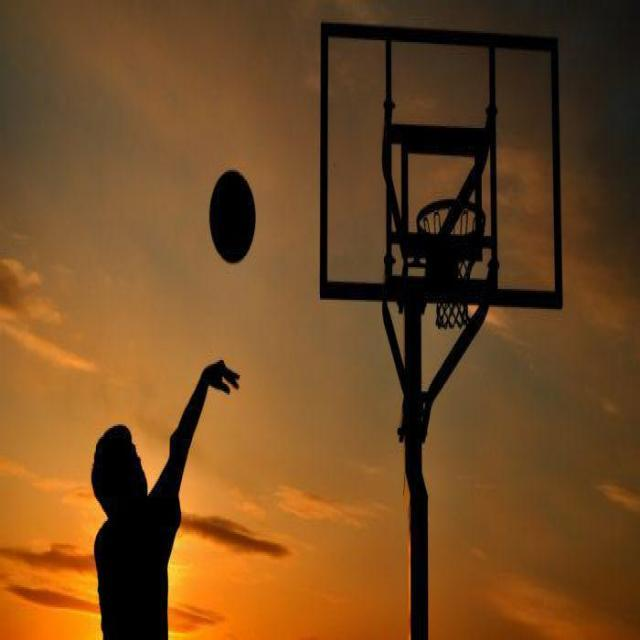Basketball: (209, 170, 256, 264)
hoop: (417, 199, 486, 329)
